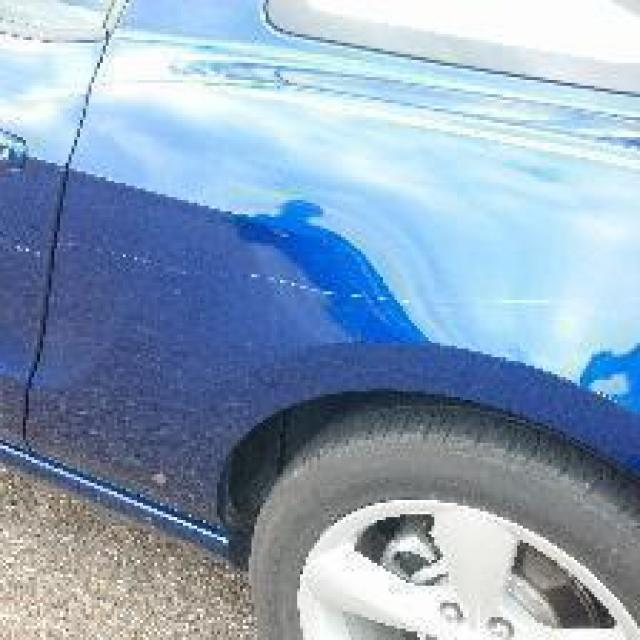damaged: (8, 228, 546, 312)
